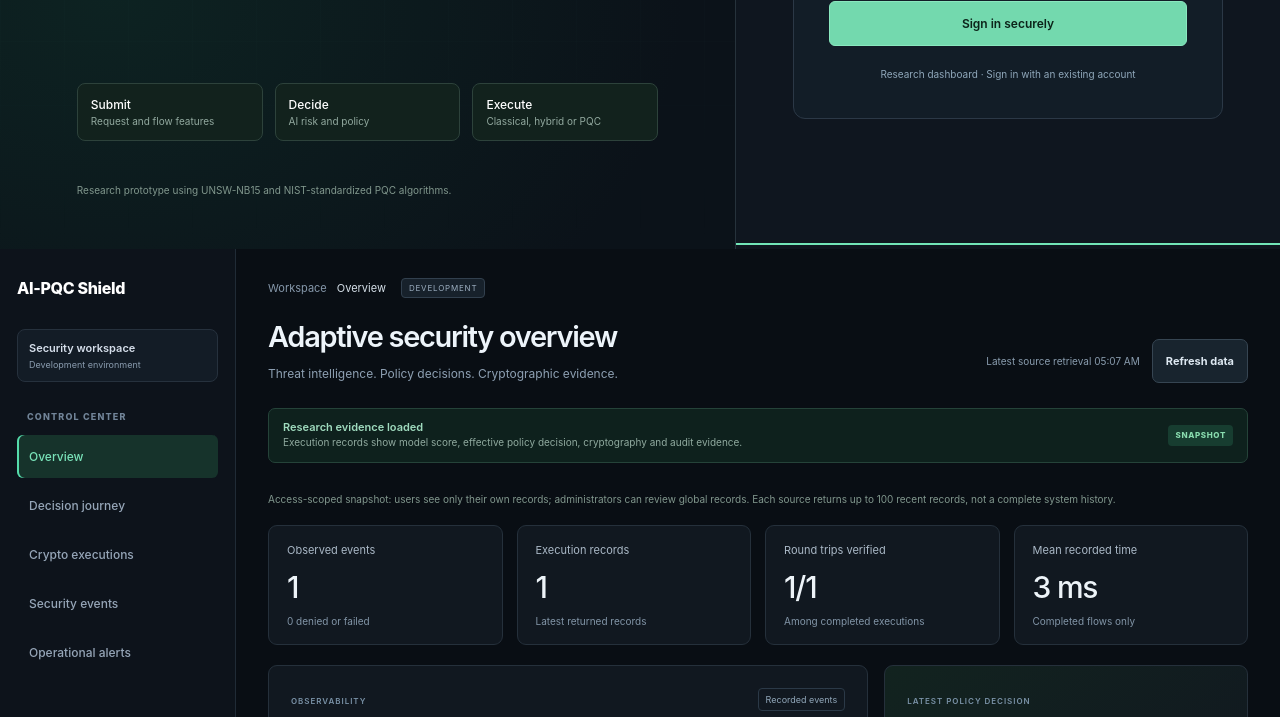
Test: Evidence session/access boundaries › clears both denied sources, selected decision and export eligibility without inventing empty retrievals
(page scrolled)
Check: the text "Research evidence loaded" is shown, box [283, 420, 423, 434]
Click the button "Refresh data": {"x": 1200, "y": 361} [1152, 339, 1248, 383]
(page scrolled)
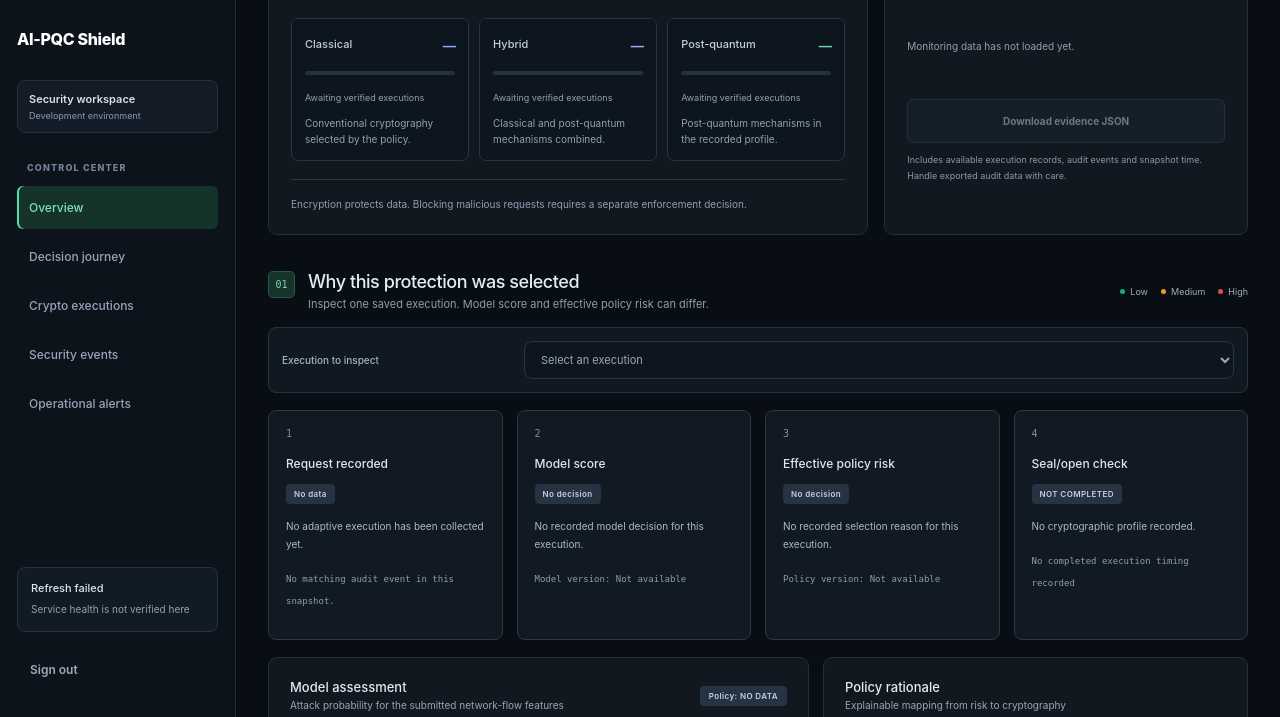
Check: the button "Download evidence JSON" is disabled, box [907, 99, 1225, 143]
Check: the dropdown labelled "Execution to inspect" is disabled, box [524, 341, 1234, 379]
